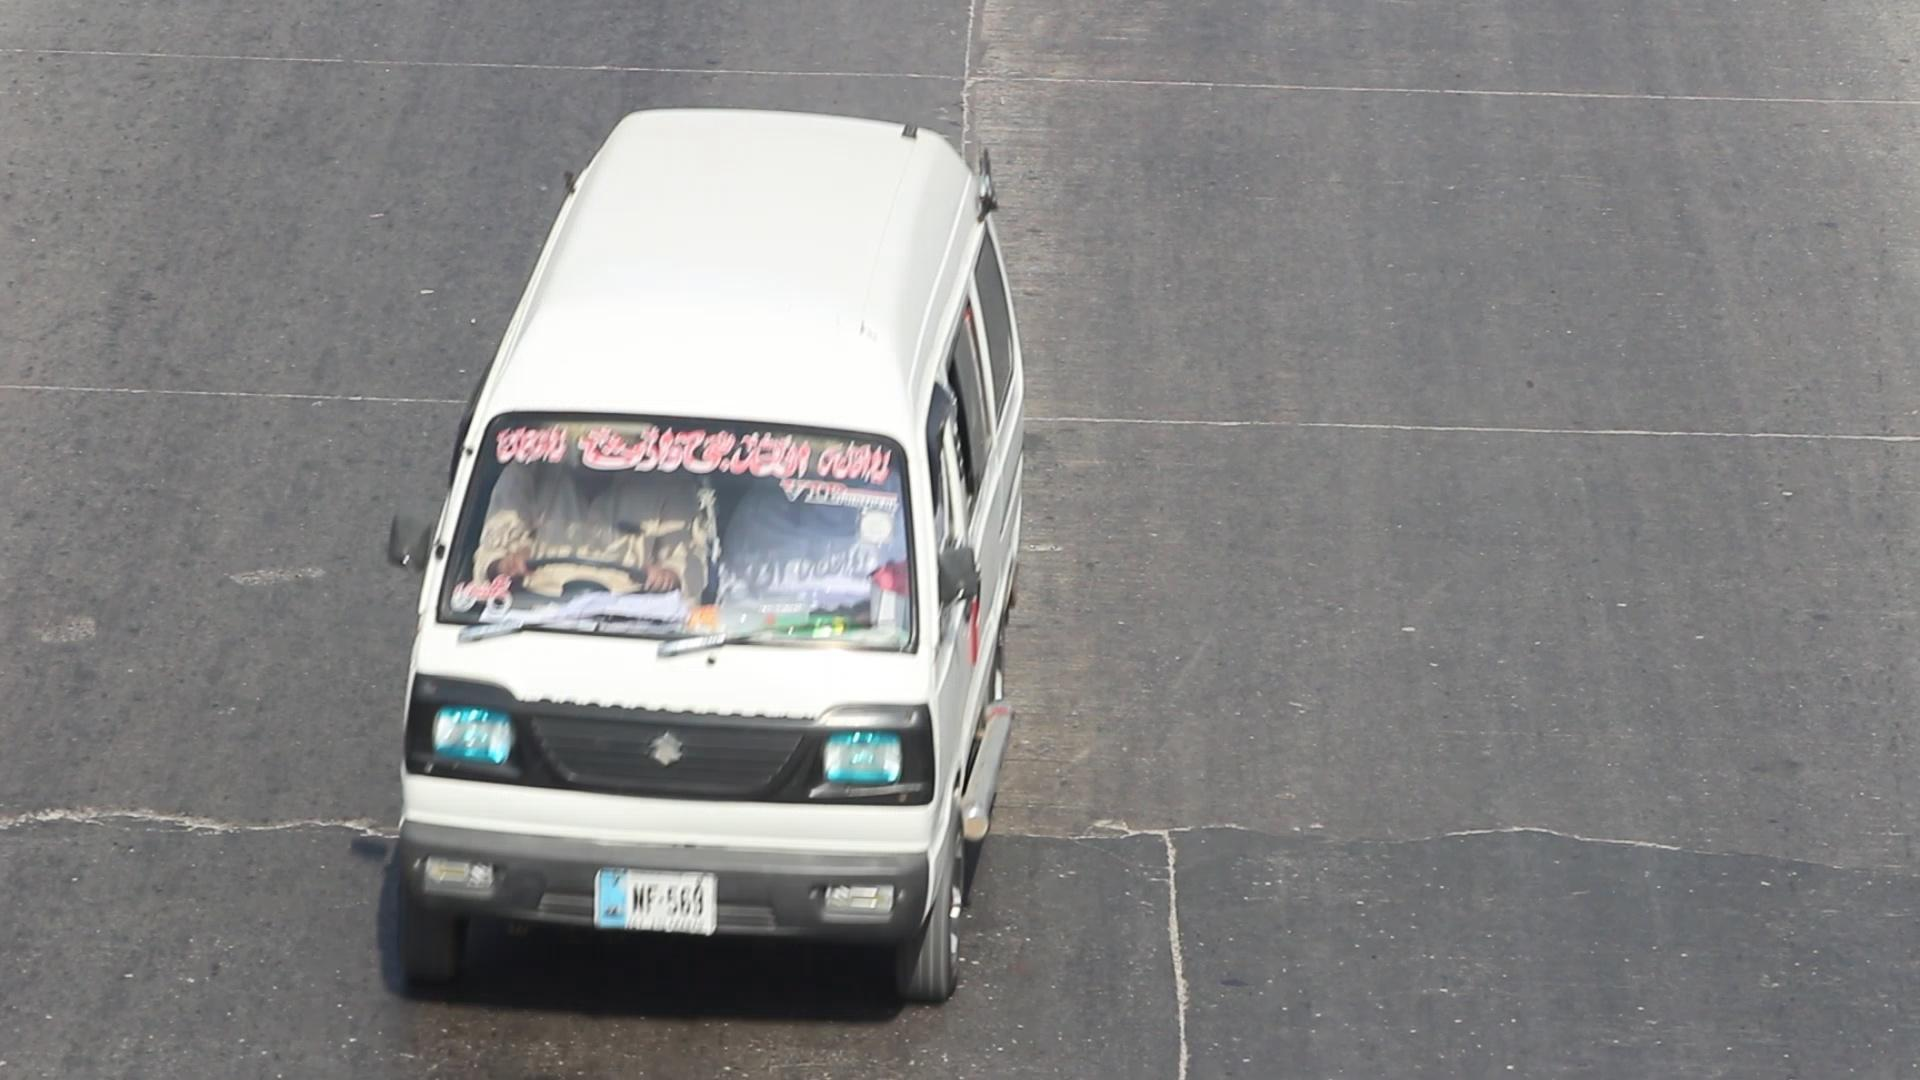windshield: (421, 406, 918, 680)
